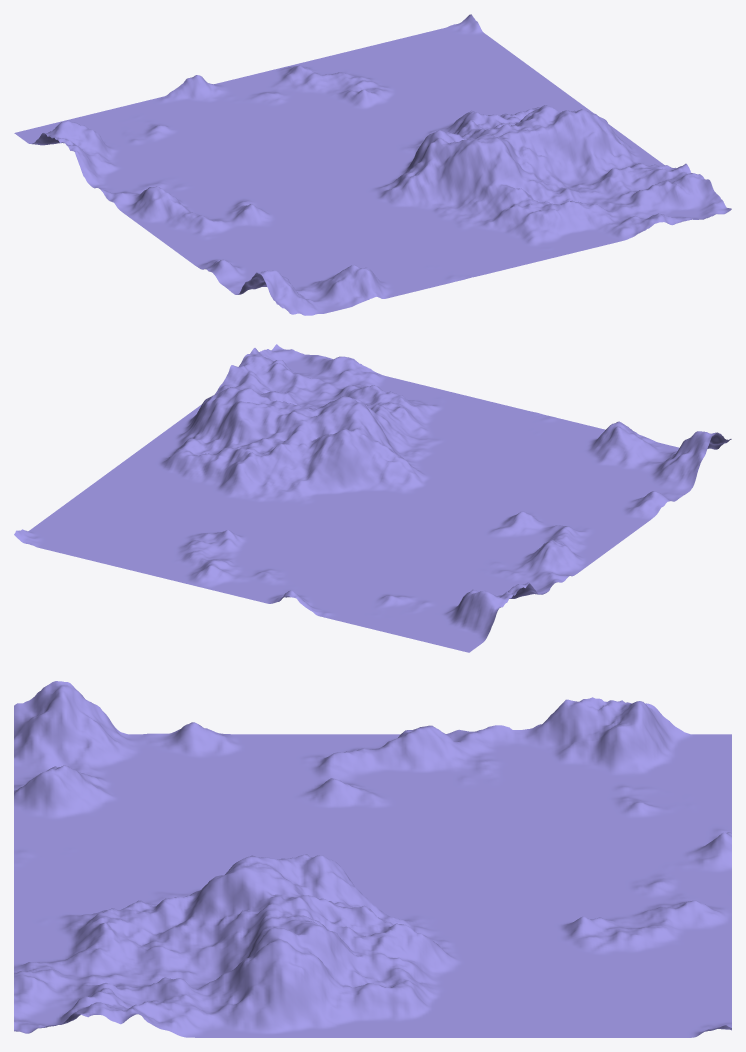
The model's file is boilerplate-test.glb.
3 renders of one model, top to bottom at view 1: azimuth 30°, elevation 25°; view 2: azimuth 150°, elevation 25°; view 3: azimuth 270°, elevation 25°, orthographic. The views are drawn at different scales.
Parts seen in each view (by area): view 1: Plane; view 2: Plane; view 3: Plane.
Part boxes in pixels (left/top/right/bottom): Plane: left=14, top=14, right=731, bottom=315; Plane: left=14, top=344, right=731, bottom=652; Plane: left=14, top=681, right=731, bottom=1037.
Size of the model in its own units: 323 by 34.6 by 323.
